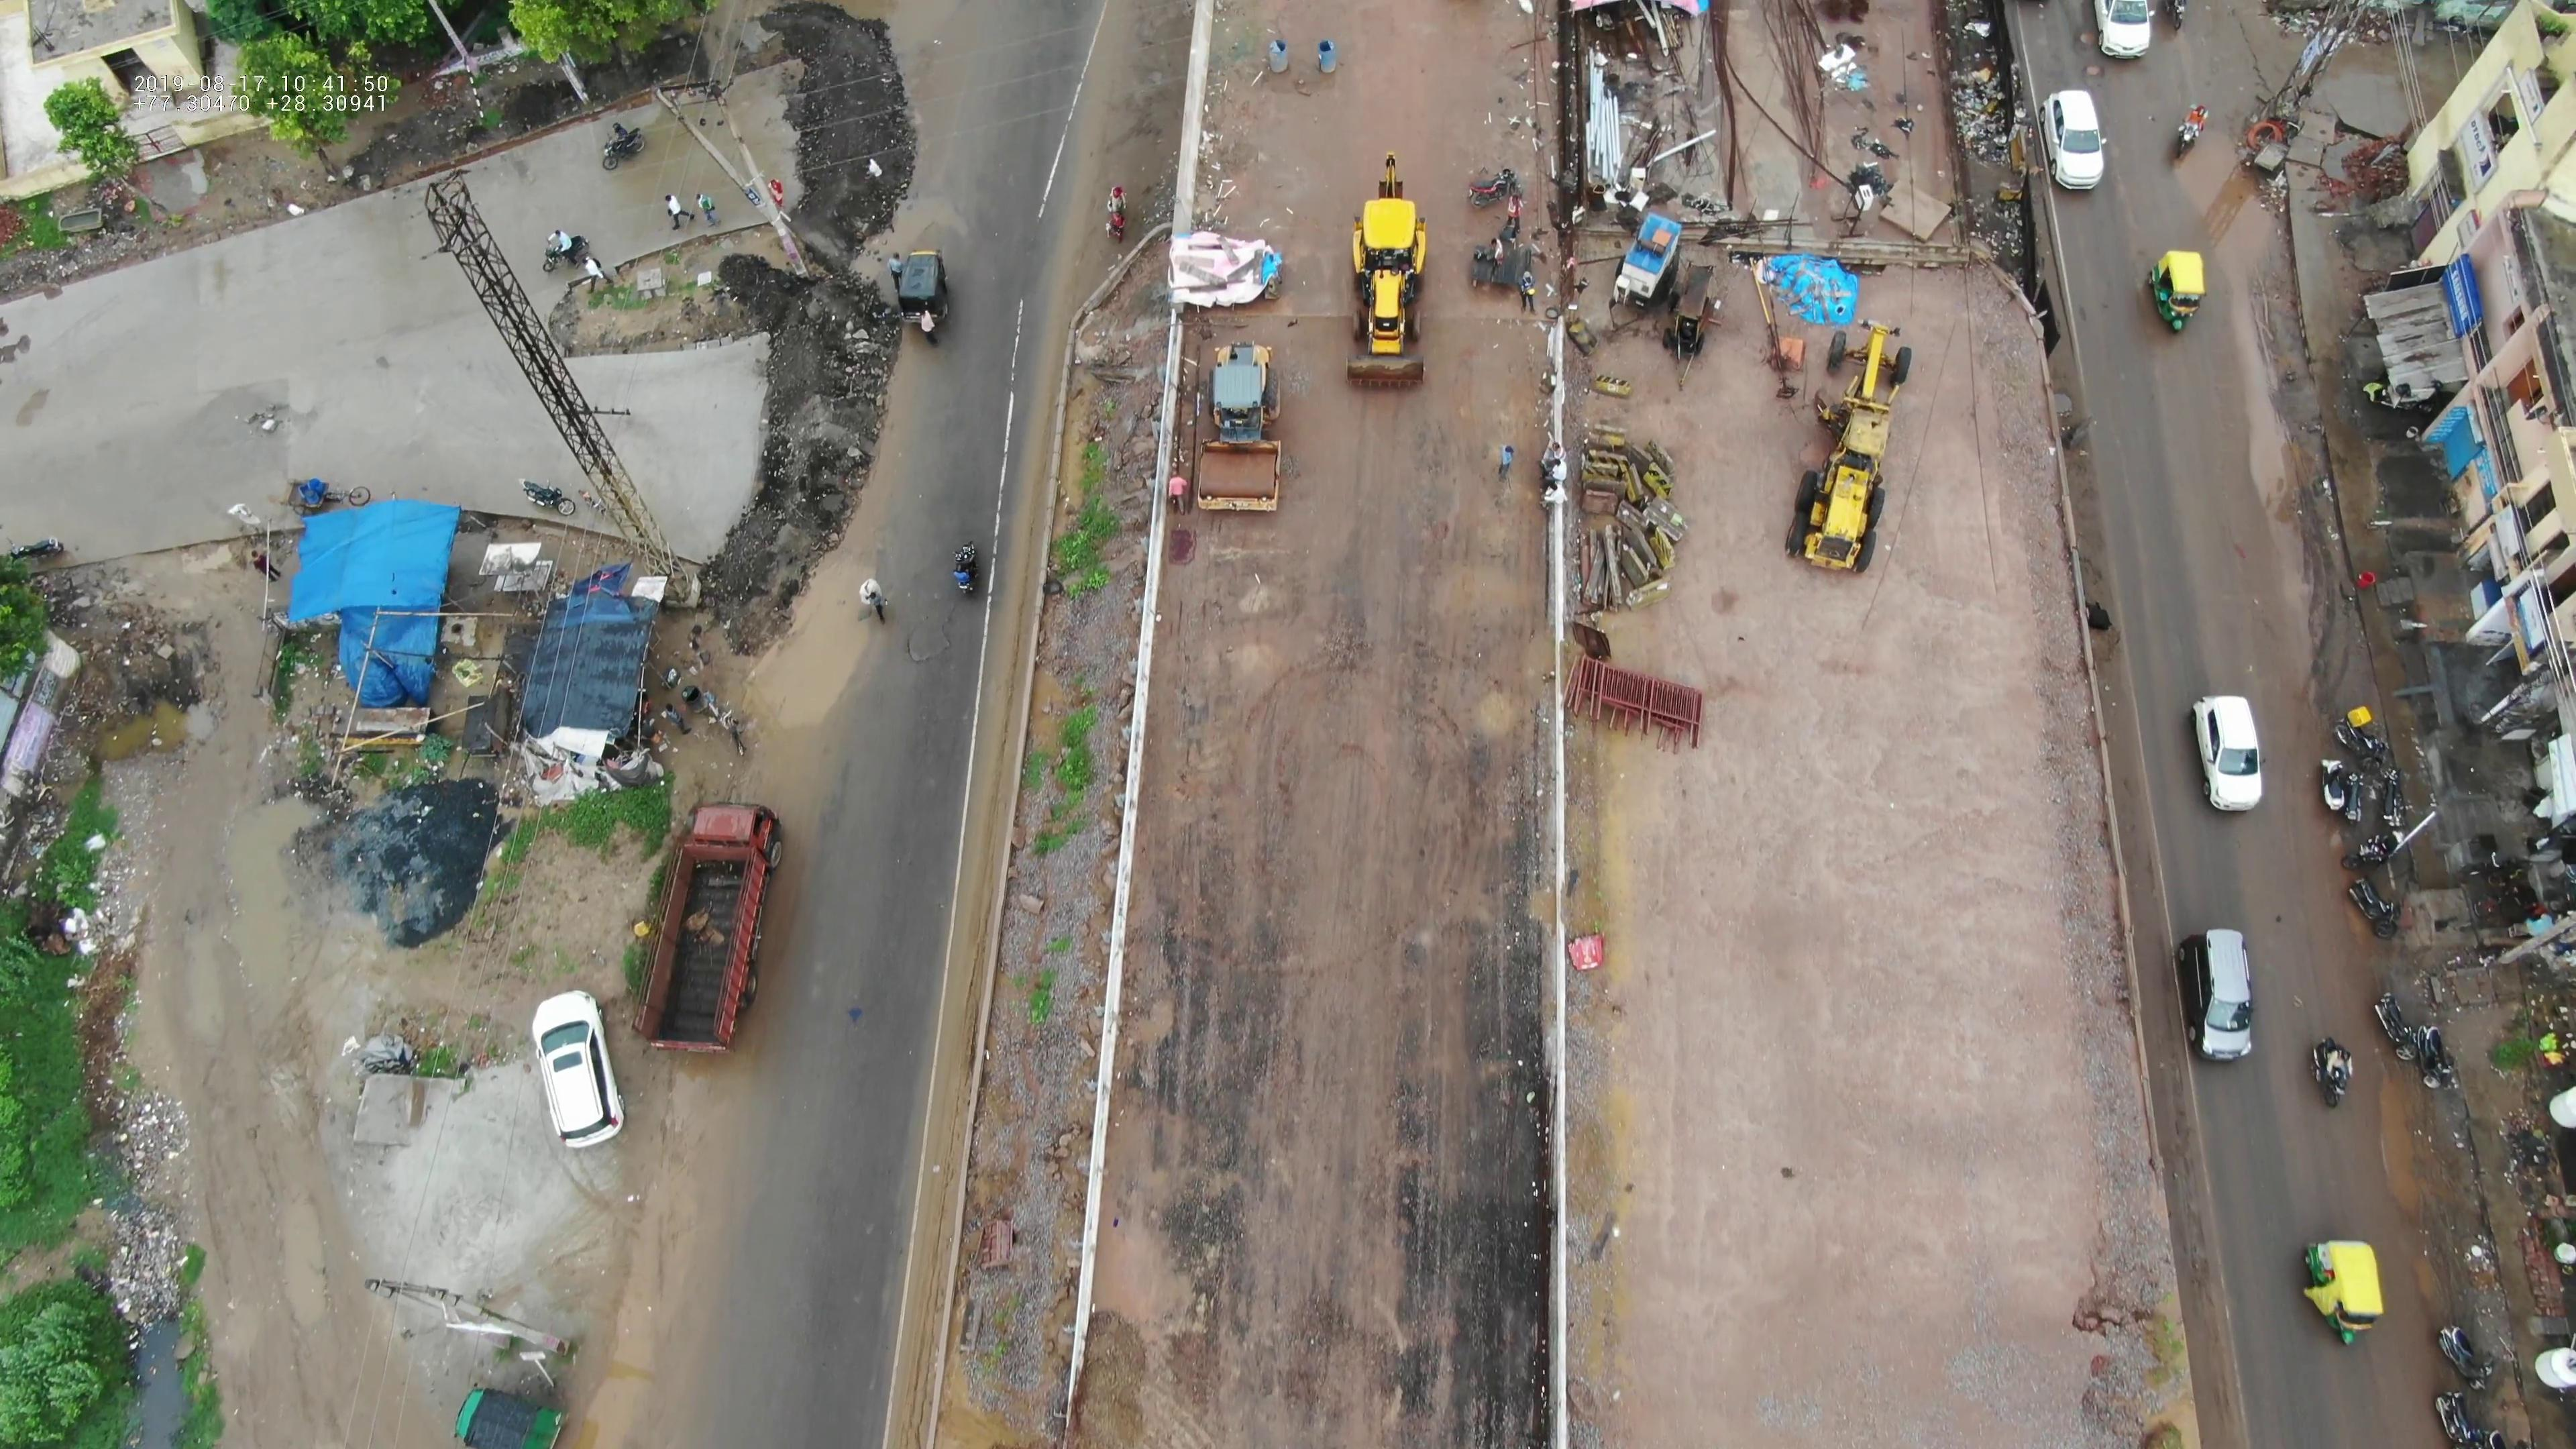Road_side_garbage: (99, 1074, 209, 1311)
